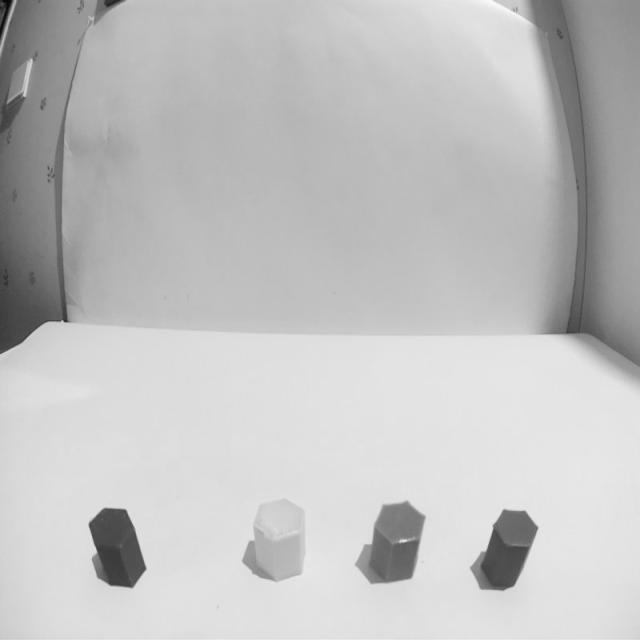hexagon: (86, 502, 149, 593), (480, 503, 540, 595), (369, 496, 427, 588), (250, 496, 309, 584)
